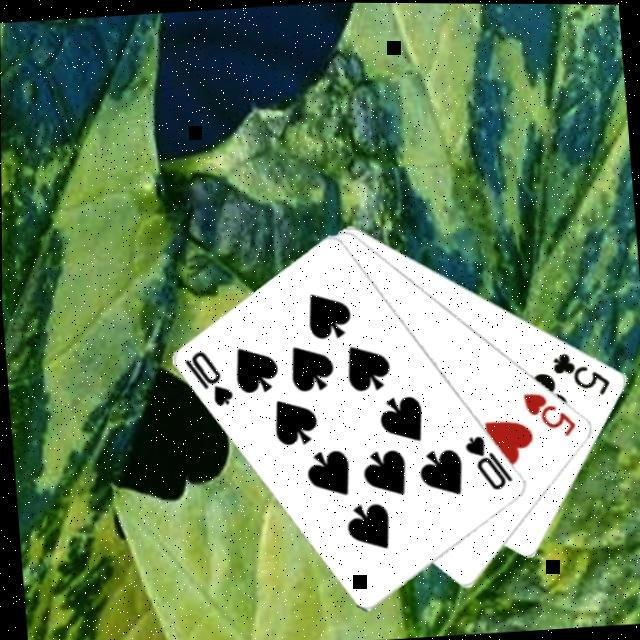10S: (458, 428, 514, 492), (179, 344, 234, 408)
5C: (546, 343, 612, 398)
5H: (516, 384, 578, 439)
